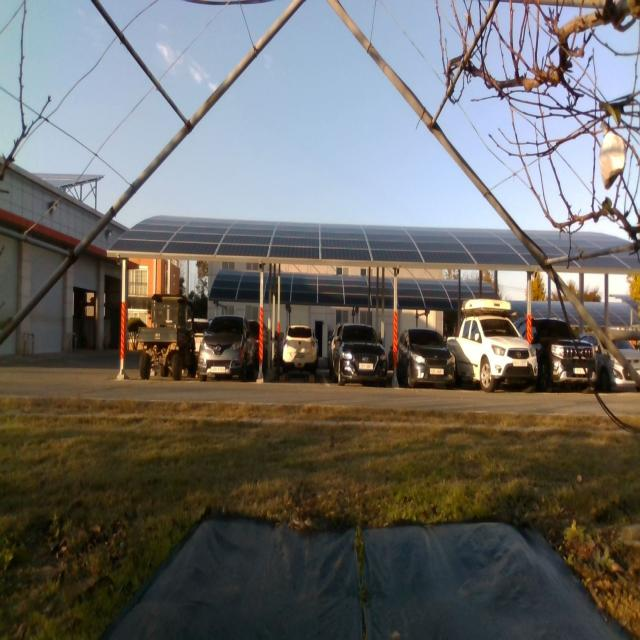pearbags: (600, 130, 626, 188)
